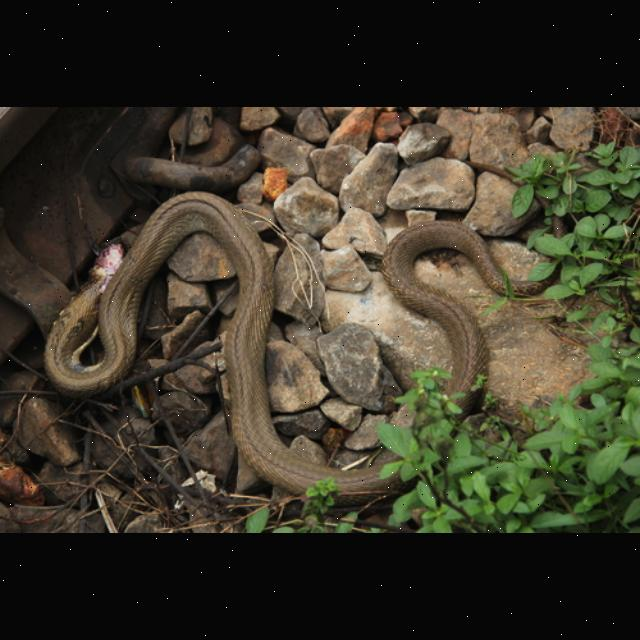snake: (42, 198, 580, 500)
